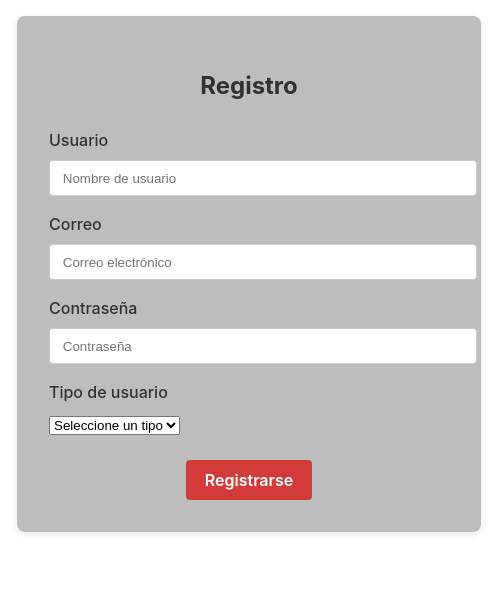
Scenario: muestra mensaje de error cuando falla el registro (detalle string)
The width and height of the screenshot is (499, 592).
Type "existente" into the field labelled "Usuario".
click(263, 178); type("existente")  # box [49,160,477,196]
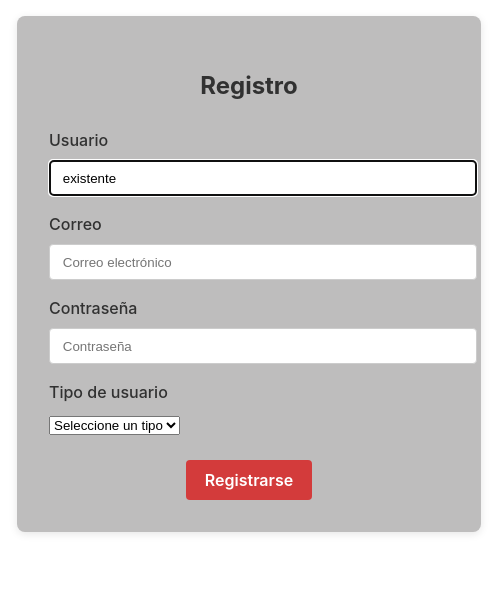
Type "e@e.com" into the field labelled "Correo".
click(263, 262); type("e@e.com")  # box [49,244,477,280]
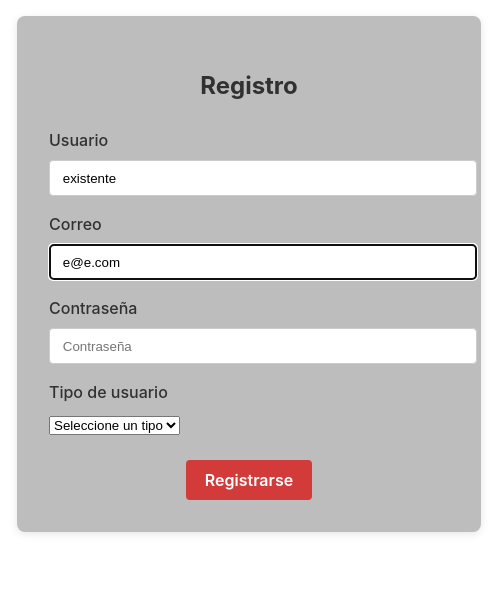
Type "123456" into the password field labelled "Contraseña".
click(263, 346); type("123456")  # box [49,328,477,364]
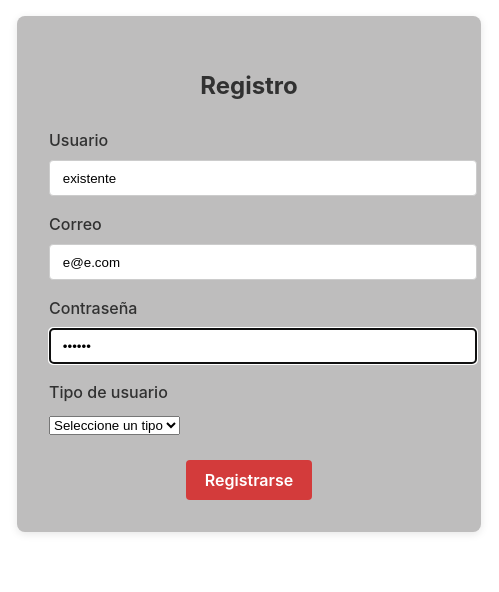
Select "docente" in the dropdown labelled "Tipo de usuario" at (114, 426), box [49,416,180,436]
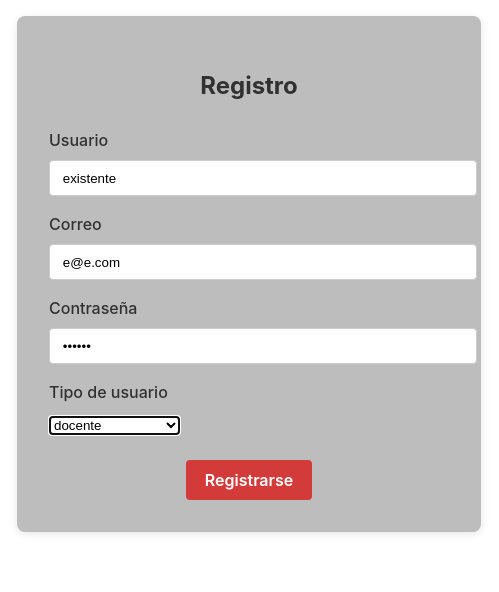
Click the button "Registrarse".
click(249, 480)  # box [186,460,312,500]
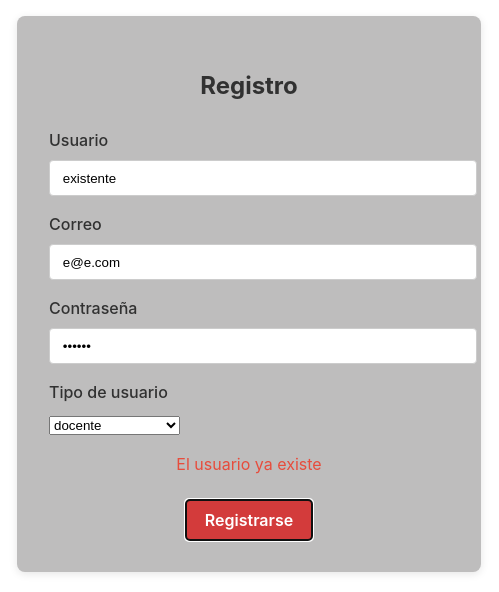
Now the text "El usuario ya existe" is shown, box [176,454,322,474]
